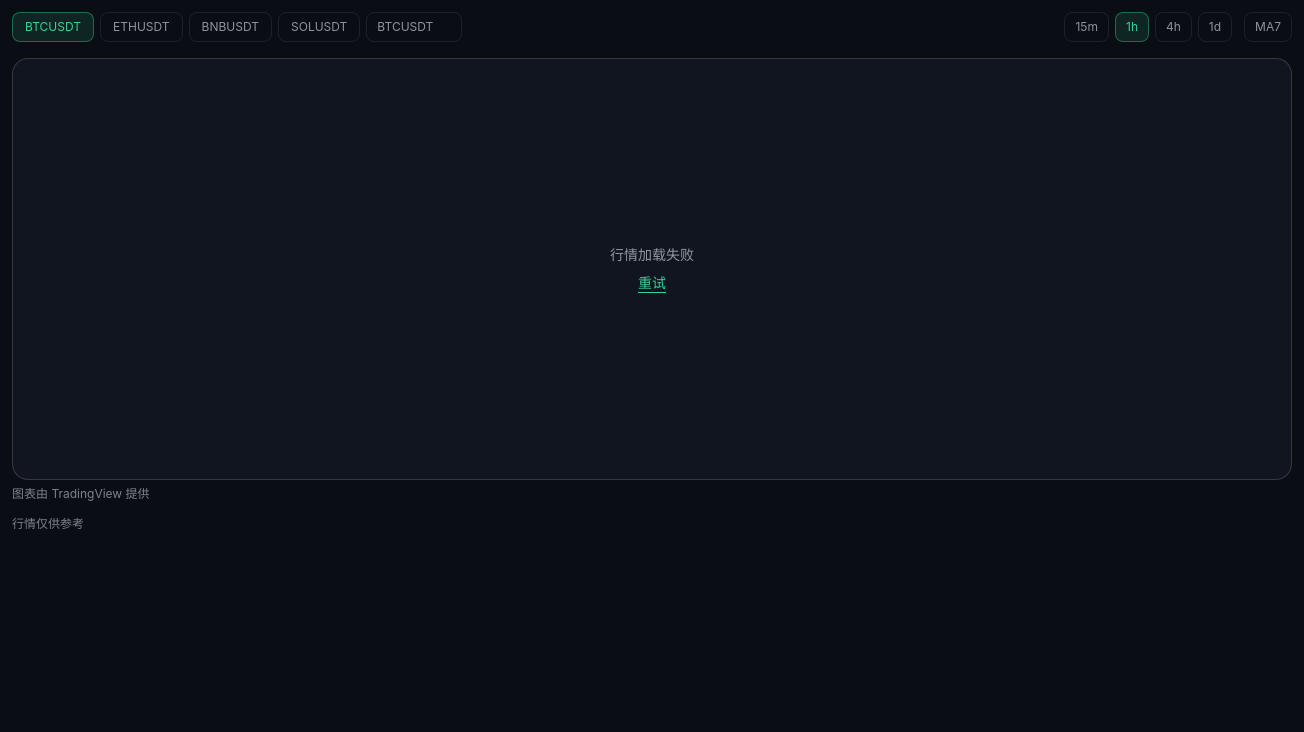
Test case: KlineChart 加载失败与重试 › 拉取失败展示错误文案，点击重试后恢复
Expected: the text "行情加载失败" is shown, [610,245,694,265]
What coordinates should you click on to do the following:
click the button "重试"
I would click on:
 (652, 283)
Its box is [638,273,666,293].
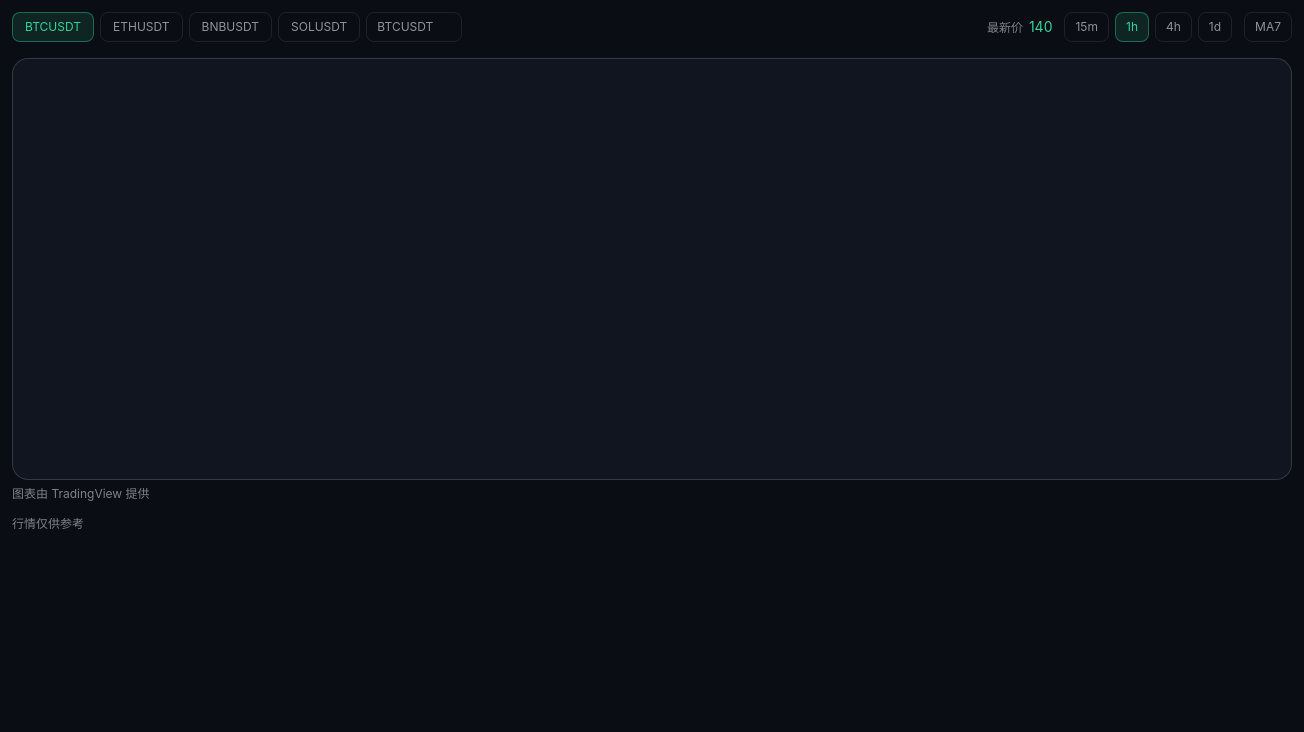
Now the text "行情加载失败" is gone
